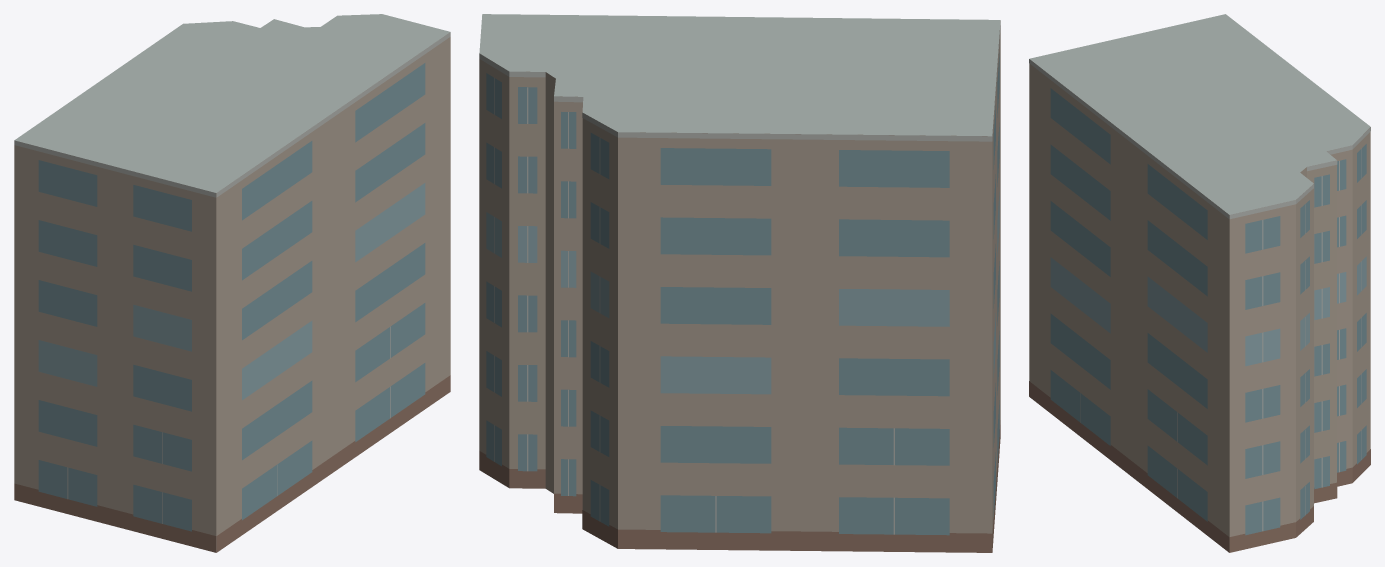
Rendered from survey-upis-32783854.glb.
3 views of the same model, side by side, from view 1: azimuth 30°, elevation 25°; view 2: azimuth 150°, elevation 25°; view 3: azimuth 270°, elevation 25° (orthographic). The views are drawn at different scales.
Parts seen in each view (by area): view 1: survey-upis-32783854.tmp; view 2: survey-upis-32783854.tmp; view 3: survey-upis-32783854.tmp.
Boxes of the visible parts, x1=… form: survey-upis-32783854.tmp: x1=14, y1=14, x2=450, y2=552; survey-upis-32783854.tmp: x1=479, y1=14, x2=1000, y2=552; survey-upis-32783854.tmp: x1=1029, y1=14, x2=1370, y2=552.
Bounding box in the file's own units: 23.79 × 18.65 × 17.1.
